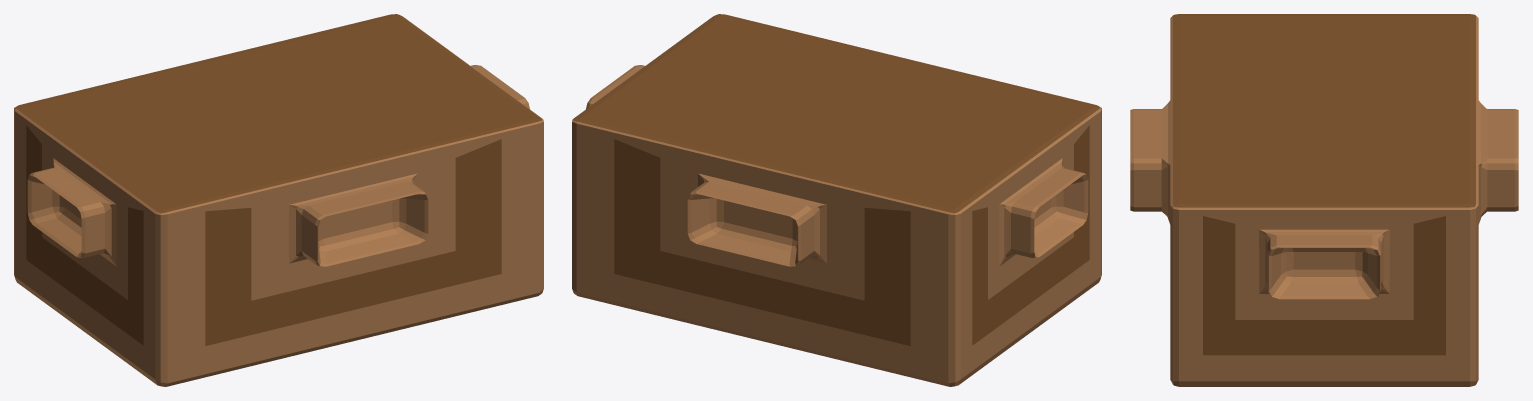
File: Caixa.fbx
3 renders of one model, left to right at view 1: azimuth 30°, elevation 25°; view 2: azimuth 150°, elevation 25°; view 3: azimuth 270°, elevation 25°, orthographic. The views are drawn at different scales.
Parts seen in each view (by area): view 1: Cubo; view 2: Cubo; view 3: Cubo.
Part boxes in pixels (bbox=[...]): Cubo: bbox=[14, 14, 543, 386]; Cubo: bbox=[572, 14, 1101, 386]; Cubo: bbox=[1130, 14, 1518, 386].
Bounding box in the file's own units: 231 × 87.05 × 168.
